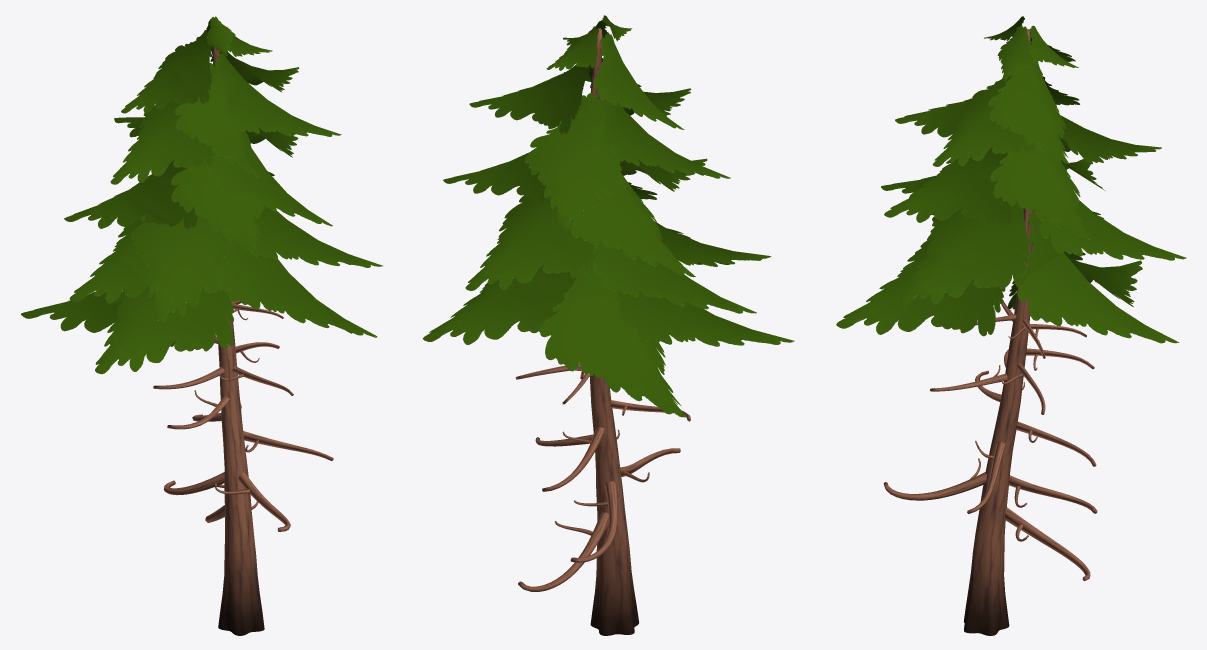
Rendered from sn_pine_3.glb.
3 renders of one model, left to right at view 1: azimuth 30°, elevation 25°; view 2: azimuth 150°, elevation 25°; view 3: azimuth 270°, elevation 25°, orthographic. The views are drawn at different scales.
Parts seen in each view (by area): view 1: Pine_3; view 2: Pine_3; view 3: Pine_3.
Boxes of the visible parts, x1=… form: Pine_3: x1=21, y1=16, x2=382, y2=635; Pine_3: x1=422, y1=15, x2=794, y2=635; Pine_3: x1=836, y1=16, x2=1186, y2=635.
Size of the model in its own units: 3.61 by 7.39 by 4.
2 materials, 2 textured.
